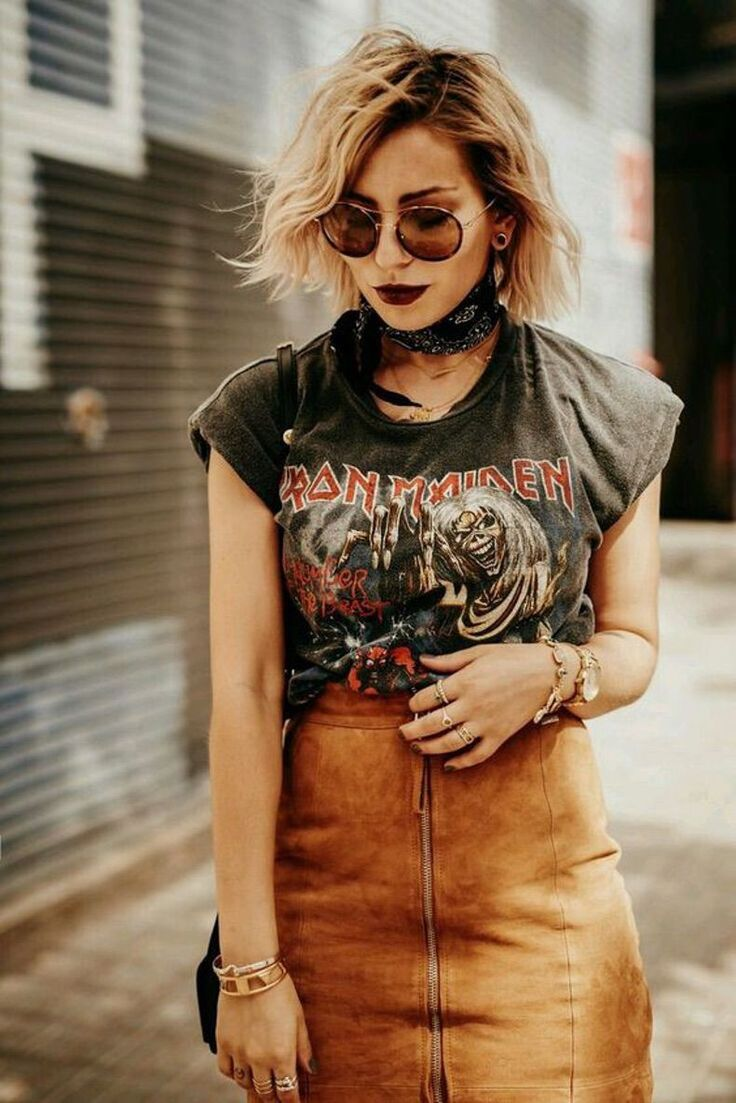gamuza: (278, 684, 651, 1103)
